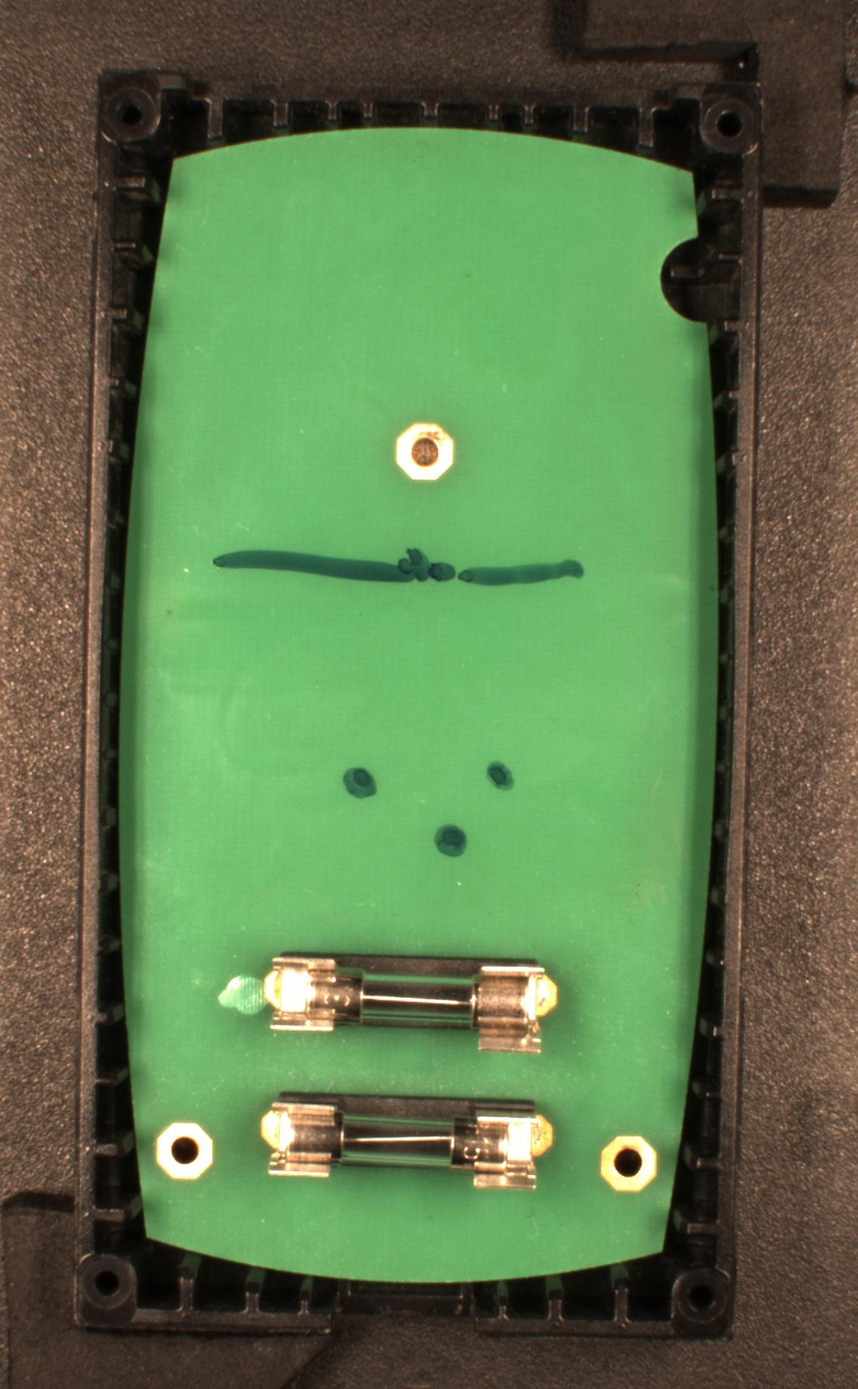Linijsko Ostecene: (212, 543, 586, 586)
Tockasto Ostecenje: (433, 821, 469, 859), (342, 765, 376, 799), (484, 759, 516, 793)
